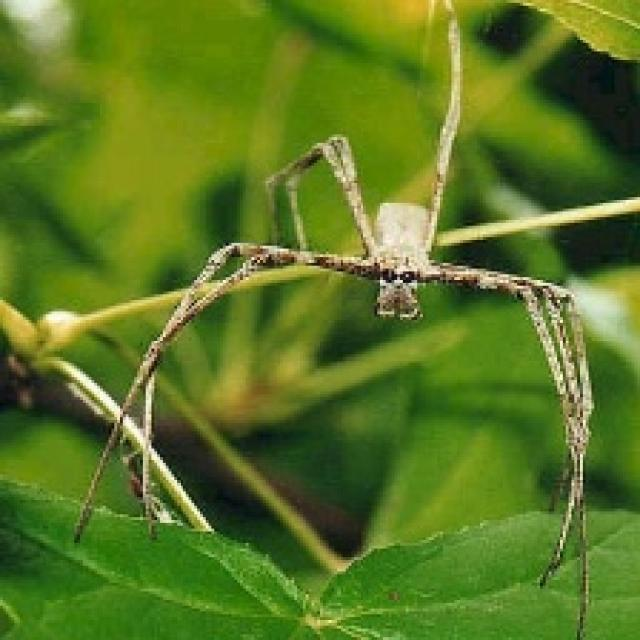Non venomous spider: (72, 37, 603, 570)
